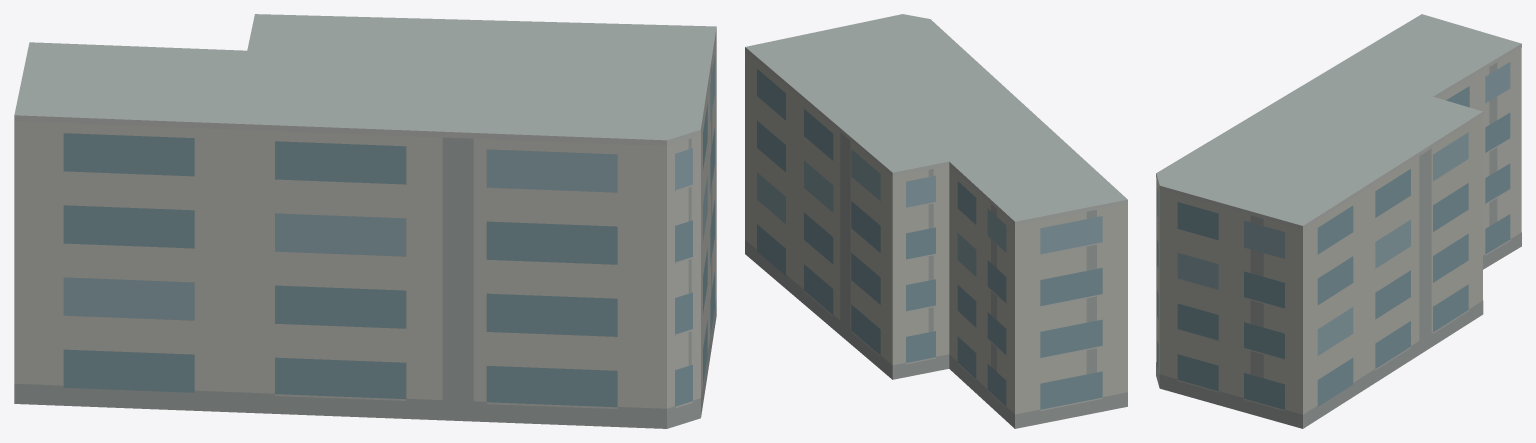
The model's file is residential-645ecd0d-6bb3-4406-872f-53c167f20a4e.glb.
The picture shows the model from 3 angles, left to right: view 1: azimuth 30°, elevation 25°; view 2: azimuth 150°, elevation 25°; view 3: azimuth 270°, elevation 25°; orthographic projection. The views are drawn at different scales.
Parts seen in each view (by area): view 1: residential-645ecd0d-6bb3-4406-872f-53c167f20a4e.tmp; view 2: residential-645ecd0d-6bb3-4406-872f-53c167f20a4e.tmp; view 3: residential-645ecd0d-6bb3-4406-872f-53c167f20a4e.tmp.
Part boxes in pixels (x1,y1,x2,y2): residential-645ecd0d-6bb3-4406-872f-53c167f20a4e.tmp: (14, 14, 716, 428); residential-645ecd0d-6bb3-4406-872f-53c167f20a4e.tmp: (745, 14, 1127, 428); residential-645ecd0d-6bb3-4406-872f-53c167f20a4e.tmp: (1156, 14, 1521, 428).
Bounding box in the file's own units: 27.34 × 12.2 × 19.93.
